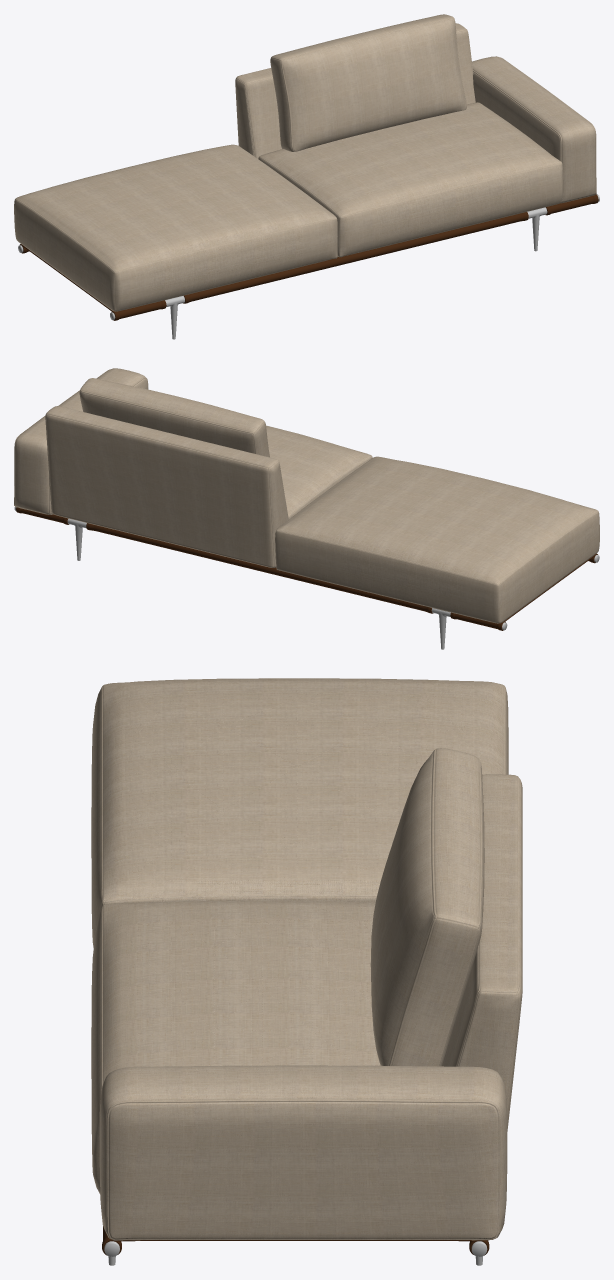
File: SK_MILOS_1_ARMY_TWO_SEATS_SECTIONAL-d8a88e54.glb
3 renders of one model, top to bottom at view 1: azimuth 30°, elevation 25°; view 2: azimuth 150°, elevation 25°; view 3: azimuth 270°, elevation 25°, orthographic. The views are drawn at different scales.
Visible parts, largest first — view 1: assento mod.002, almofada_milos_b, braco modul, costas modul.002, base modulo.002, base metal .000; view 2: assento mod.002, costas modul.002, almofada_milos_b, braco modul, base modulo.002, base metal .000; view 3: assento mod.002, braco modul, almofada_milos_b, costas modul.002.
Boxes of the visible parts, x1=… form: assento mod.002: x1=14, y1=102, x2=563, y2=311; almofada_milos_b: x1=270, y1=14, x2=466, y2=151; braco modul: x1=472, y1=56, x2=596, y2=203; costas modul.002: x1=235, y1=23, x2=475, y2=158; base modulo.002: x1=20, y1=194, x2=598, y2=320; base metal .000: x1=18, y1=194, x2=599, y2=339; assento mod.002: x1=266, y1=425, x2=599, y2=623; costas modul.002: x1=45, y1=406, x2=288, y2=567; almofada_milos_b: x1=79, y1=378, x2=269, y2=457; braco modul: x1=14, y1=368, x2=148, y2=514; base modulo.002: x1=16, y1=507, x2=597, y2=630; base metal .000: x1=14, y1=507, x2=599, y2=649; assento mod.002: x1=91, y1=678, x2=508, y2=1194; braco modul: x1=99, y1=1065, x2=507, y2=1240; almofada_milos_b: x1=370, y1=748, x2=484, y2=1066; costas modul.002: x1=442, y1=774, x2=522, y2=1131.
Size of the model in its own units: 2.49 by 0.8571 by 0.9527.
Materials: 4 (2 with a texture image).
